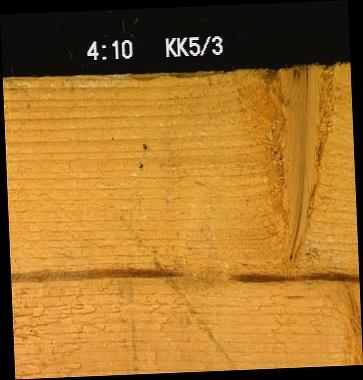wave: (127, 70, 237, 79)
